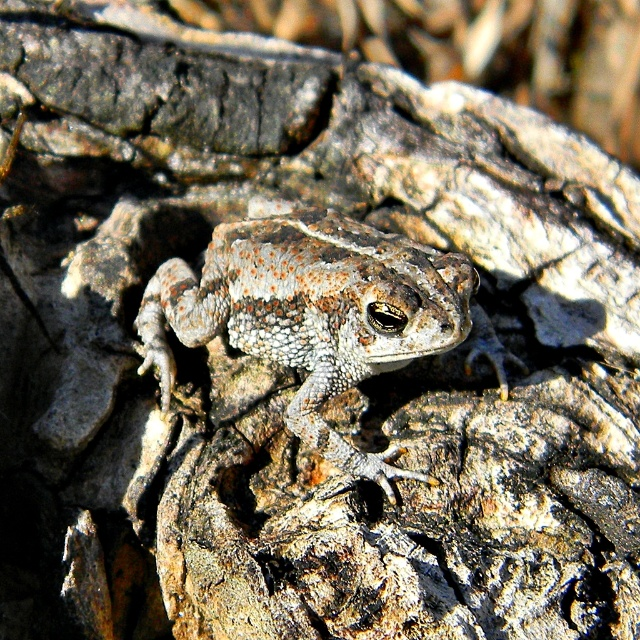Frog: (134, 208, 532, 506)
